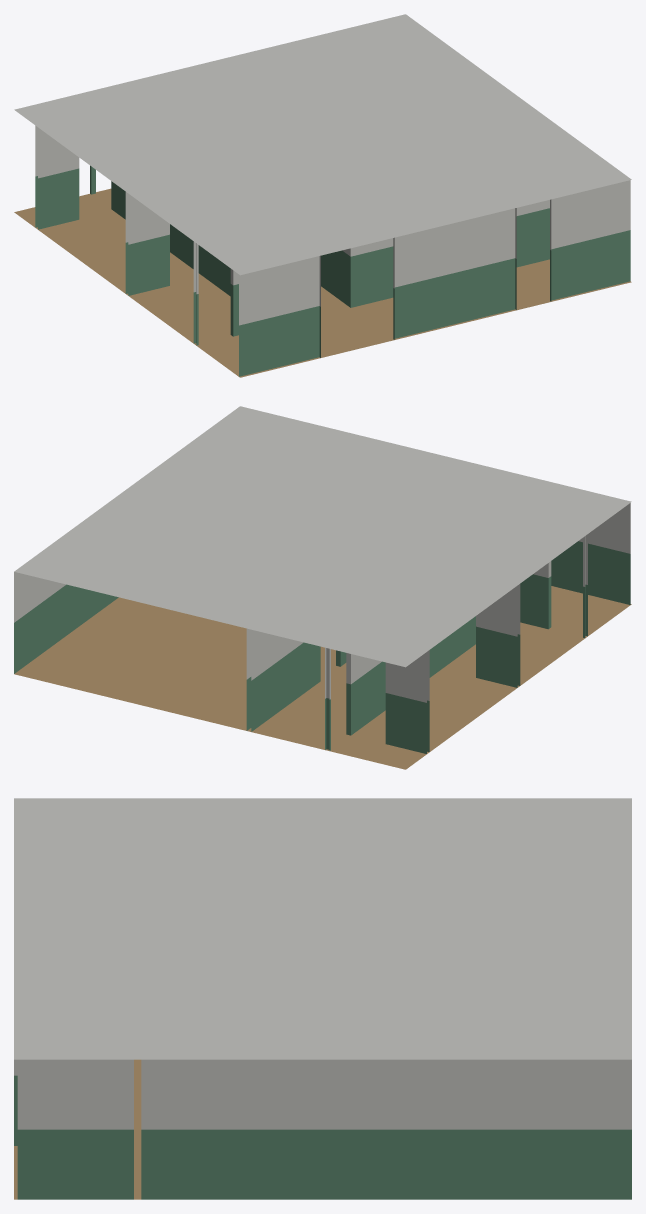
The model's file is chunk_3_2.glb.
3 renders of one model, top to bottom at view 1: azimuth 30°, elevation 25°; view 2: azimuth 150°, elevation 25°; view 3: azimuth 270°, elevation 25°, orthographic. The views are drawn at different scales.
Visible parts, largest first — view 1: chunk_3_2; view 2: chunk_3_2; view 3: chunk_3_2.
Part boxes in pixels (x1=…): chunk_3_2: x1=14, y1=14, x2=631, y2=377; chunk_3_2: x1=14, y1=406, x2=631, y2=769; chunk_3_2: x1=14, y1=798, x2=631, y2=1199.
Size of the model in its own units: 12 by 3 by 12.
